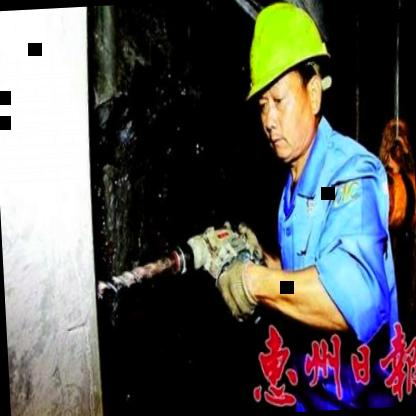helmet: (234, 0, 341, 170)
